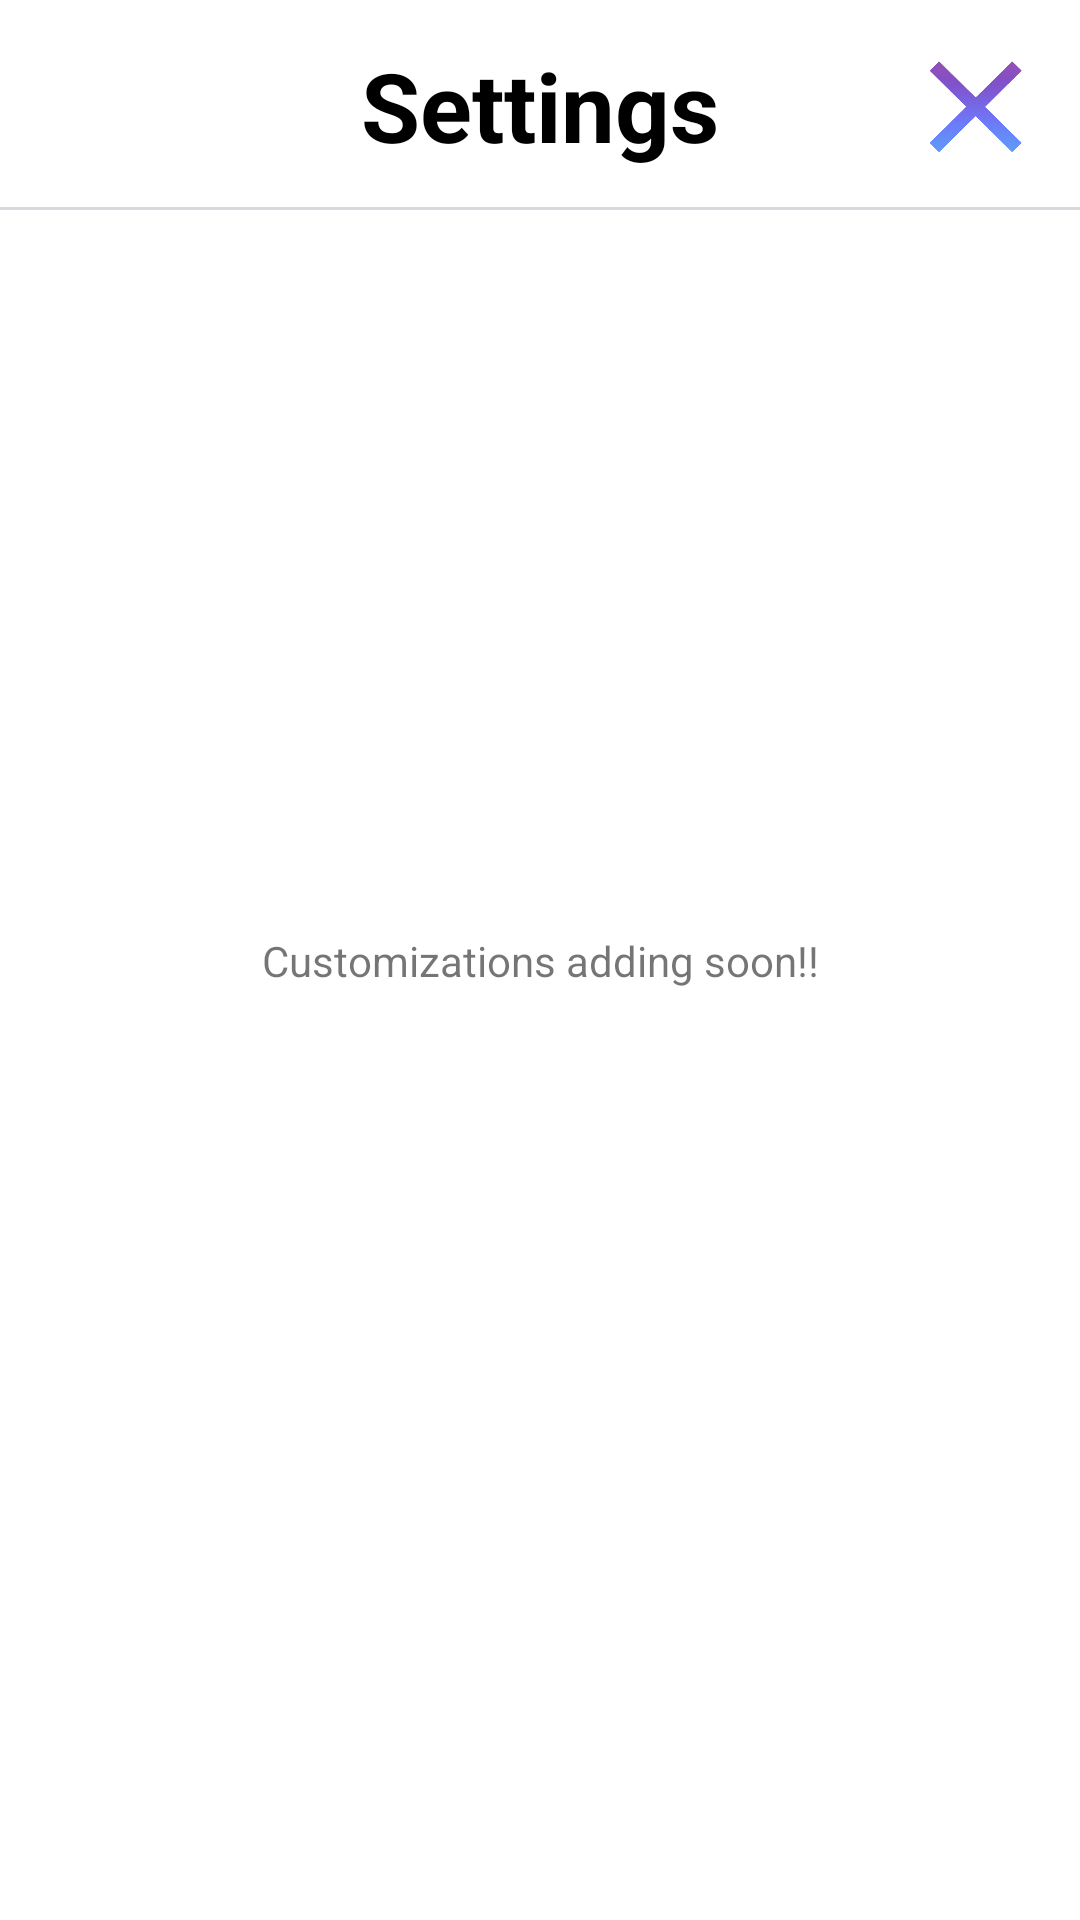

Point at icon controls on the screen. Image size 1080 x 1920, points as (x=x, y=y).
cross: (x=976, y=106)
